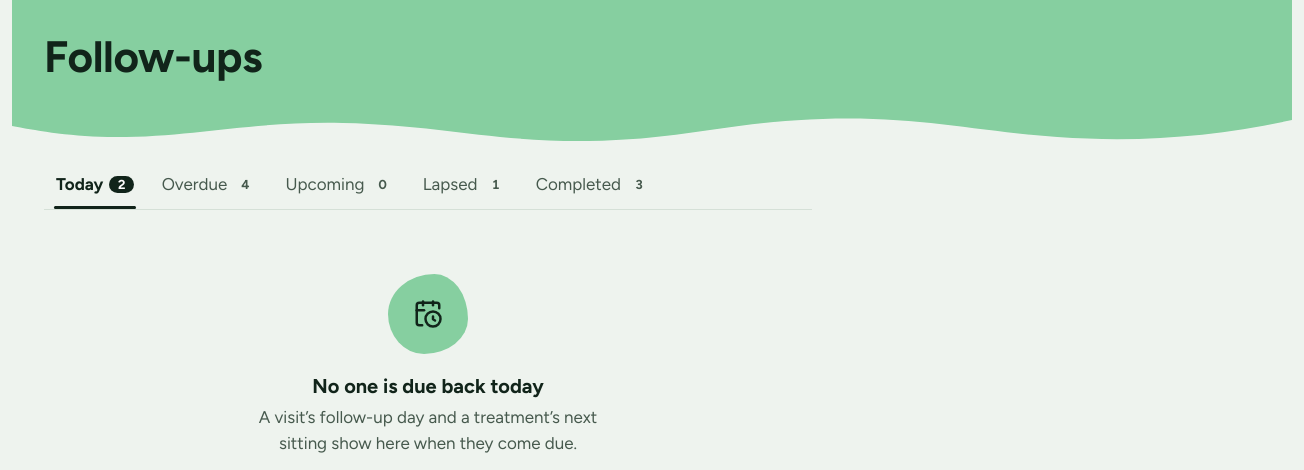
FollowUps (plan §14.3; D267 – D278) › moves between tabs, each its own list, saying when one is empty
The image size is (1304, 470).
Check: the heading "No one is due back today" is shown, box [312, 374, 544, 399]
Click the tab "Overdue 4".
click(210, 185)  # box [150, 160, 269, 209]
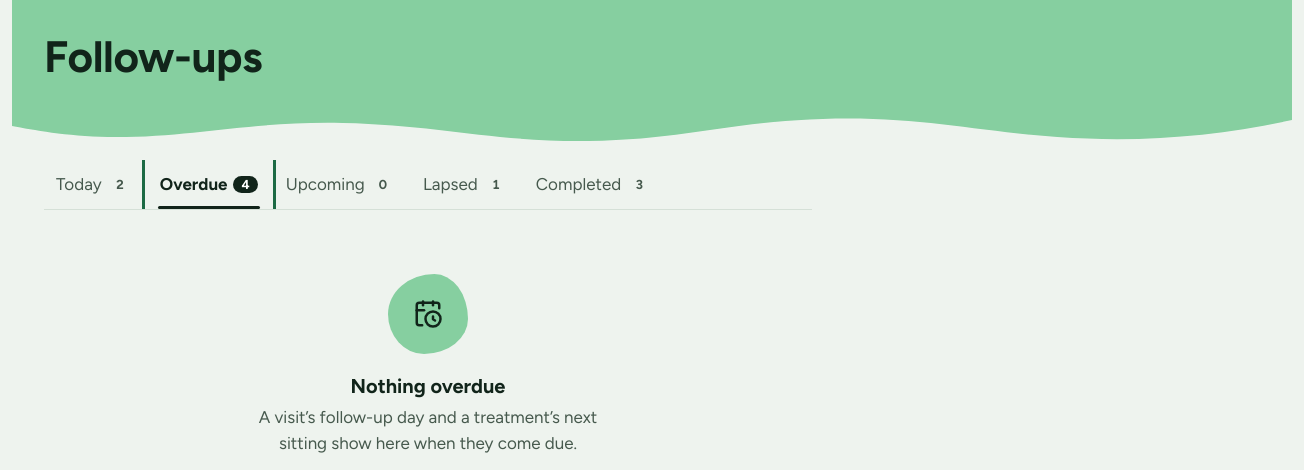
Check: the heading "Nothing overdue" is shown, box [350, 374, 505, 399]
Click the tab "Upcoming 0".
click(340, 185)  # box [274, 160, 407, 209]
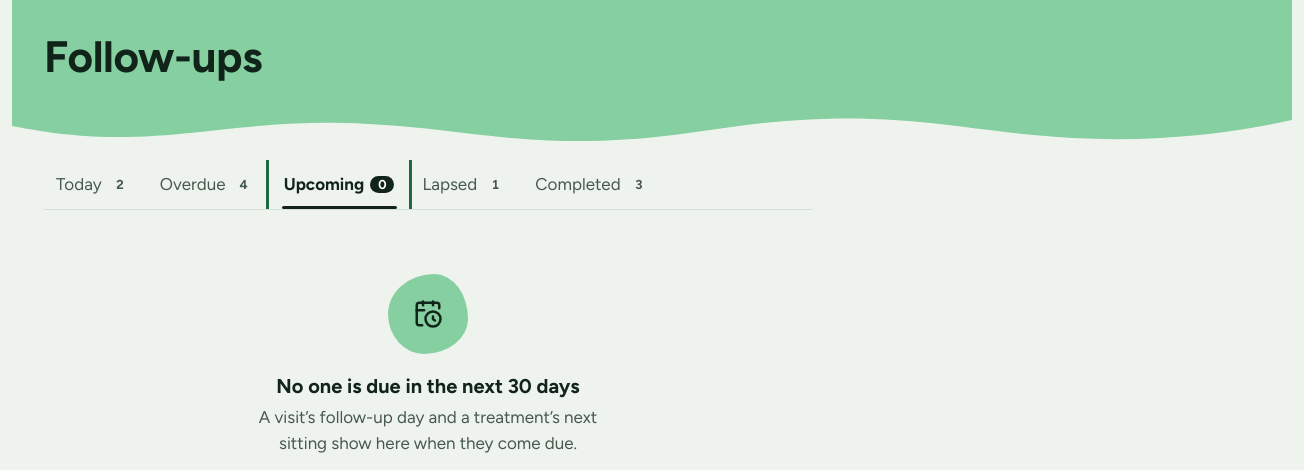
Check: the heading "No one is due in the next 30 days" is shown, box [276, 374, 580, 399]
Click the tab "Lapsed 1".
click(465, 185)  # box [410, 160, 519, 209]
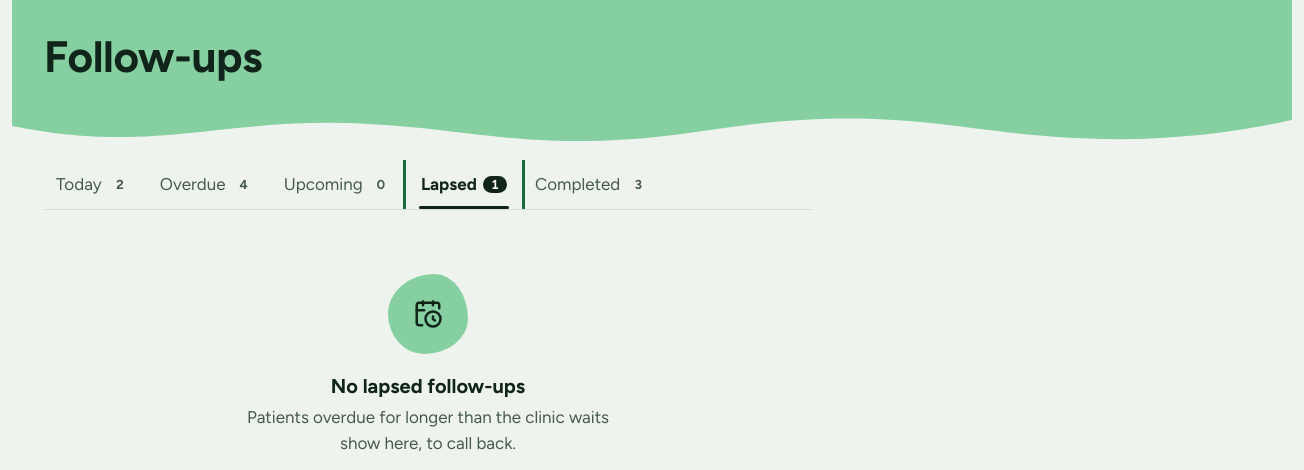
Check: the heading "No lapsed follow-ups" is shown, box [331, 374, 525, 399]
Click the tab "Completed 3".
click(593, 185)  # box [523, 160, 662, 209]
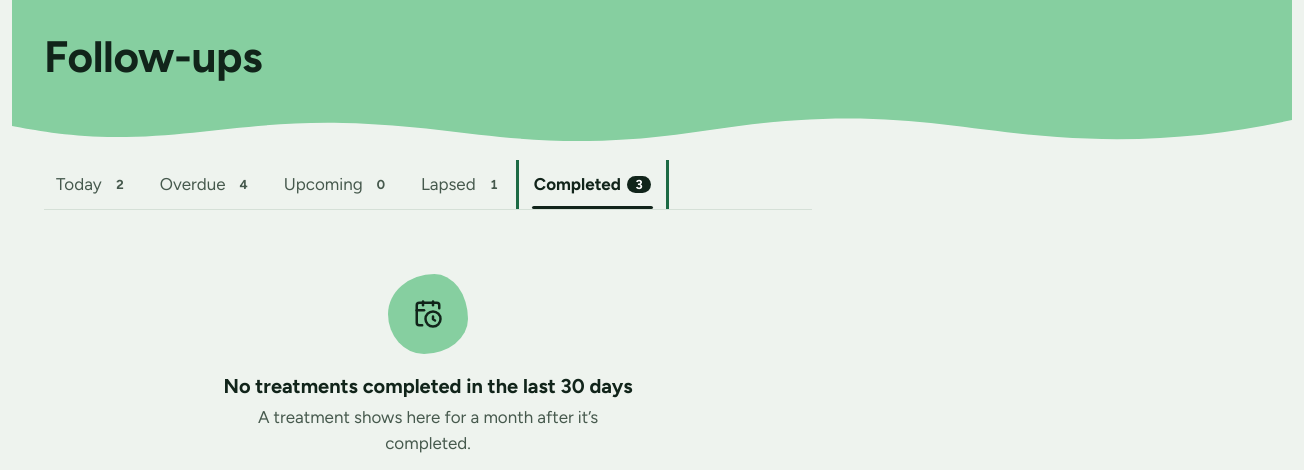
Check: the heading "No treatments completed in the last 30 days" is shown, box [223, 374, 632, 399]
